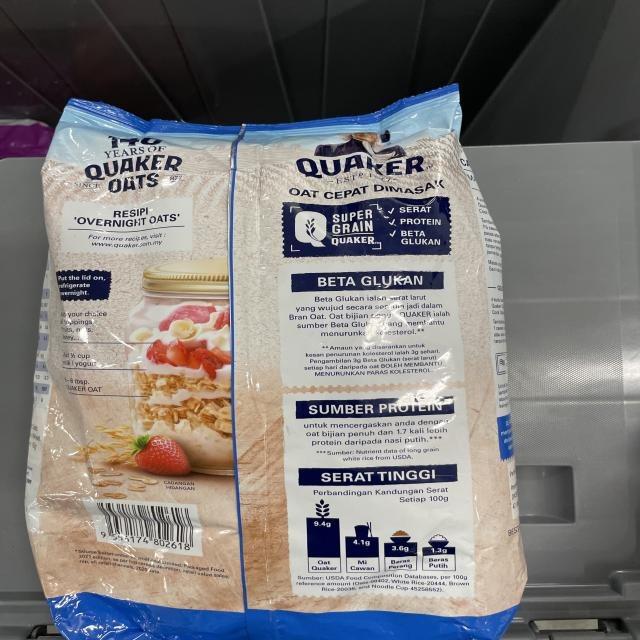object_name: (44, 110, 510, 613)
